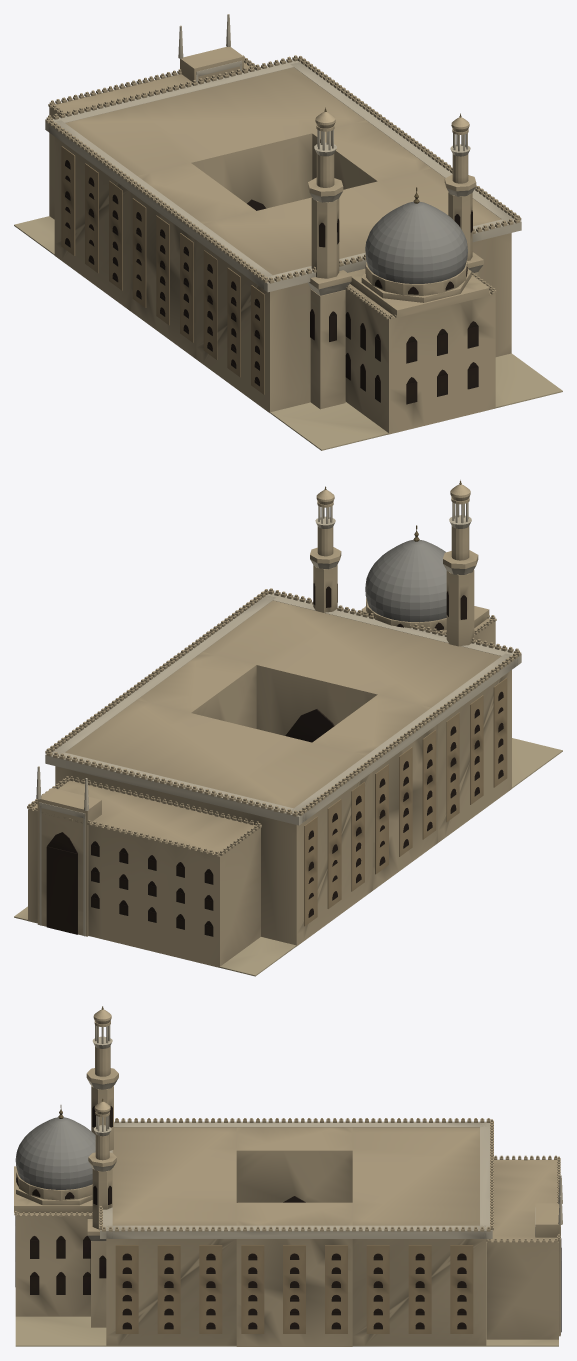
The model's file is sultan-hasan.glb.
3 views of the same model, one above another, from view 1: azimuth 30°, elevation 25°; view 2: azimuth 150°, elevation 25°; view 3: azimuth 270°, elevation 25° (orthographic). The views are drawn at different scales.
Parts seen in each view (by area): view 1: p1_walls, p2_facades and mausoleum, p3_dome and minarets, p0_ground; view 2: p1_walls, p2_facades and mausoleum, p3_dome and minarets, p0_ground; view 3: p1_walls, p2_facades and mausoleum, p3_dome and minarets, p0_ground.
Part boxes in pixels (<box>): p1_walls: <box>54,67,511,412</box>; p2_facades and mausoleum: <box>45,14,521,434</box>; p3_dome and minarets: <box>308,107,489,409</box>; p0_ground: <box>14,216,562,450</box>; p1_walls: <box>55,600,511,946</box>; p2_facades and mausoleum: <box>27,588,521,967</box>; p3_dome and minarets: <box>310,480,489,646</box>; p0_ground: <box>14,738,562,976</box>; p1_walls: <box>106,1127,486,1346</box>; p2_facades and mausoleum: <box>14,1118,562,1339</box>; p3_dome and minarets: <box>14,1006,118,1327</box>; p0_ground: <box>15,1242,558,1346</box>.
Size of the model in its own units: 72.1 by 79.46 by 152.
